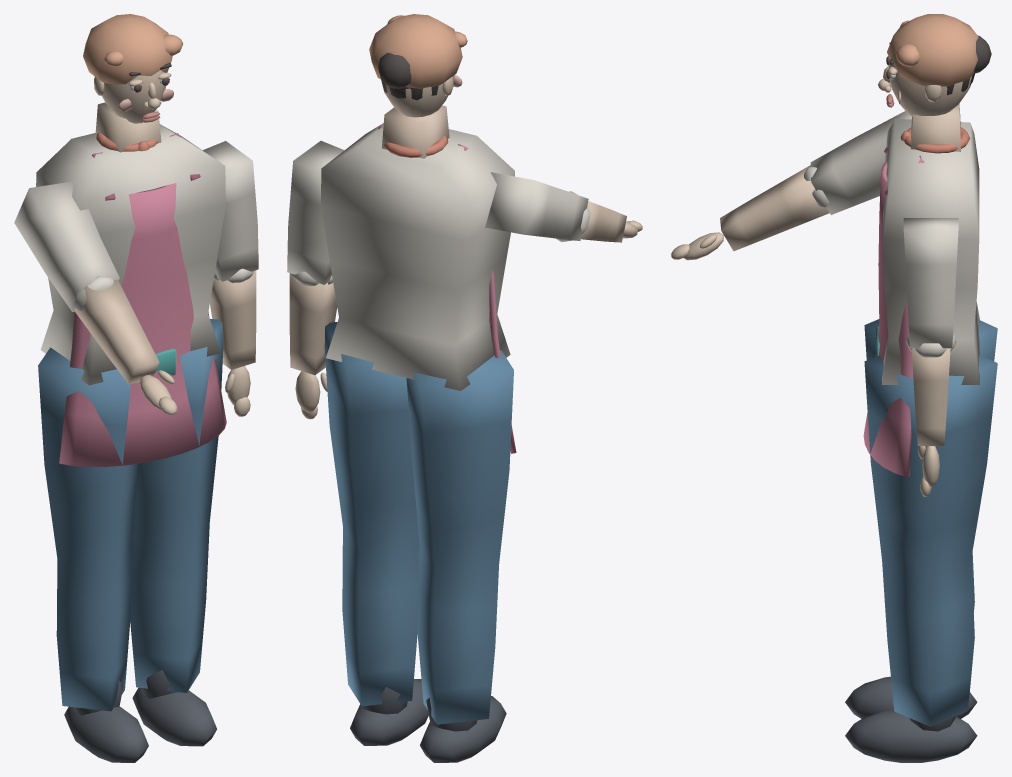
The model's file is vendor-bai-co.glb.
3 renders of one model, left to right at view 1: azimuth 30°, elevation 25°; view 2: azimuth 150°, elevation 25°; view 3: azimuth 270°, elevation 25°, orthographic. The views are drawn at different scales.
Visible parts, largest first — view 1: vendor_body, arm_wave_mesh; view 2: vendor_body, arm_wave_mesh; view 3: vendor_body, arm_wave_mesh.
Boxes of the visible parts, bbox=[...] form: vendor_body: bbox=[14, 14, 226, 762]; arm_wave_mesh: bbox=[203, 141, 258, 416]; vendor_body: bbox=[320, 14, 642, 762]; arm_wave_mesh: bbox=[287, 140, 344, 419]; vendor_body: bbox=[671, 14, 997, 762]; arm_wave_mesh: bbox=[903, 218, 958, 496].
Bounding box in the file's own units: 0.5761 × 1.7 × 0.6947.
